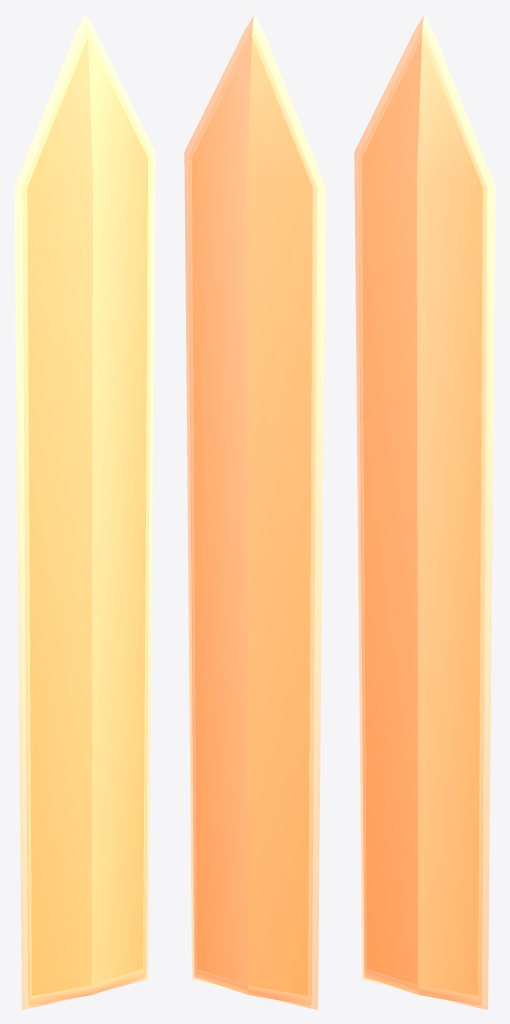
File: wood_blade (16).glb
The picture shows the model from 3 angles, left to right: view 1: azimuth 30°, elevation 25°; view 2: azimuth 150°, elevation 25°; view 3: azimuth 330°, elevation 25°; orthographic projection.
Parts seen in each view (by area): view 1: wood_blade_steel.070; view 2: wood_blade_steel.070; view 3: wood_blade_steel.070.
Boxes of the visible parts, x1,y1,x2,y2 form: wood_blade_steel.070: (14, 14, 155, 1009); wood_blade_steel.070: (184, 14, 325, 1009); wood_blade_steel.070: (354, 14, 495, 1009).
Bounding box in the file's own units: 1.71 × 11.4 × 0.3369.
Materials: 1 (1 with a texture image).
